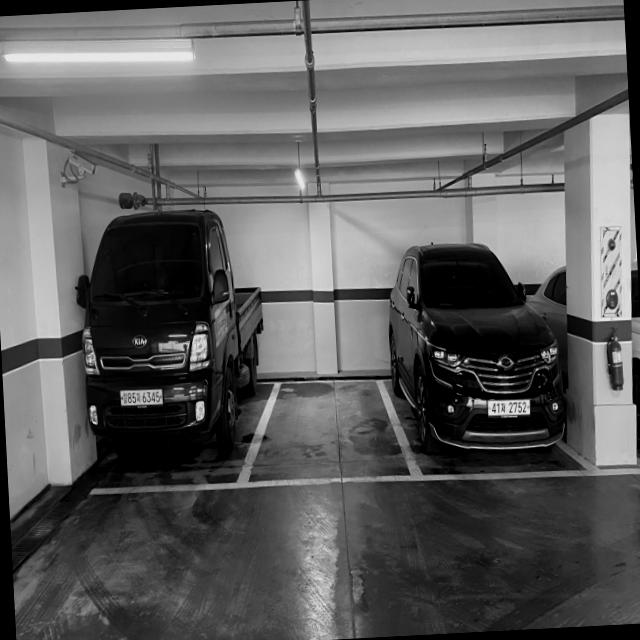car: (75, 202, 250, 461), (383, 234, 571, 455)
free: (234, 376, 427, 488)
